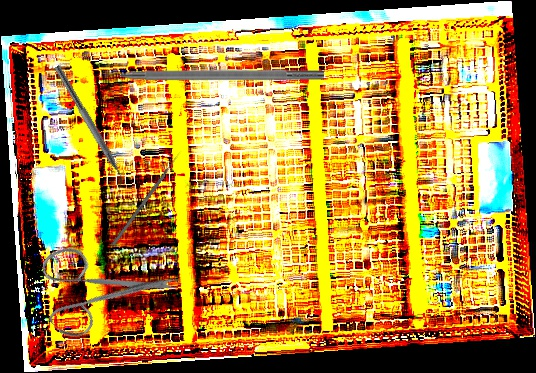Chopper: (45, 64, 132, 193)
Hook Surgical: (91, 67, 324, 81)
Iris Scissors: (16, 201, 184, 370)
Pusher: (111, 149, 183, 247)
